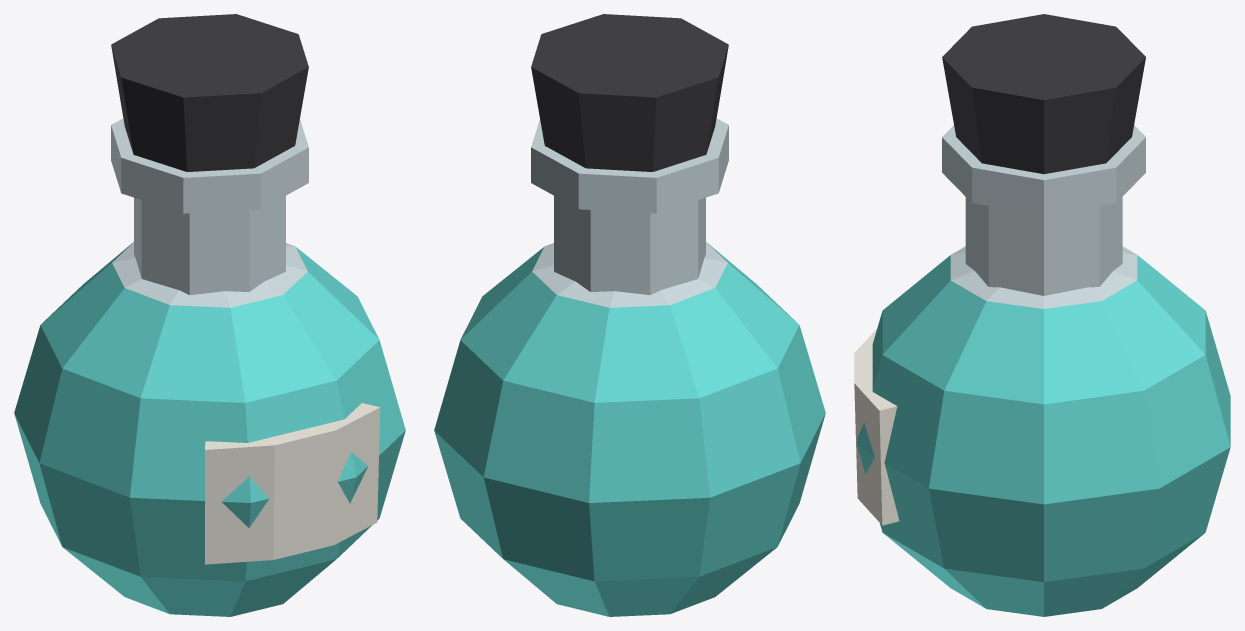
The model's file is vfem2_draught_focus.obj.
The picture shows the model from 3 angles, left to right: view 1: azimuth 30°, elevation 25°; view 2: azimuth 150°, elevation 25°; view 3: azimuth 270°, elevation 25°; orthographic projection.
Visible parts, largest first — view 1: vfem2_draught_focus; view 2: vfem2_draught_focus; view 3: vfem2_draught_focus.
Part boxes in pixels (x1,y1,x2,y2): vfem2_draught_focus: (14, 14, 405, 616); vfem2_draught_focus: (434, 14, 825, 616); vfem2_draught_focus: (854, 14, 1230, 616).
Size of the model in its own units: 0.2 by 0.305 by 0.1918.
